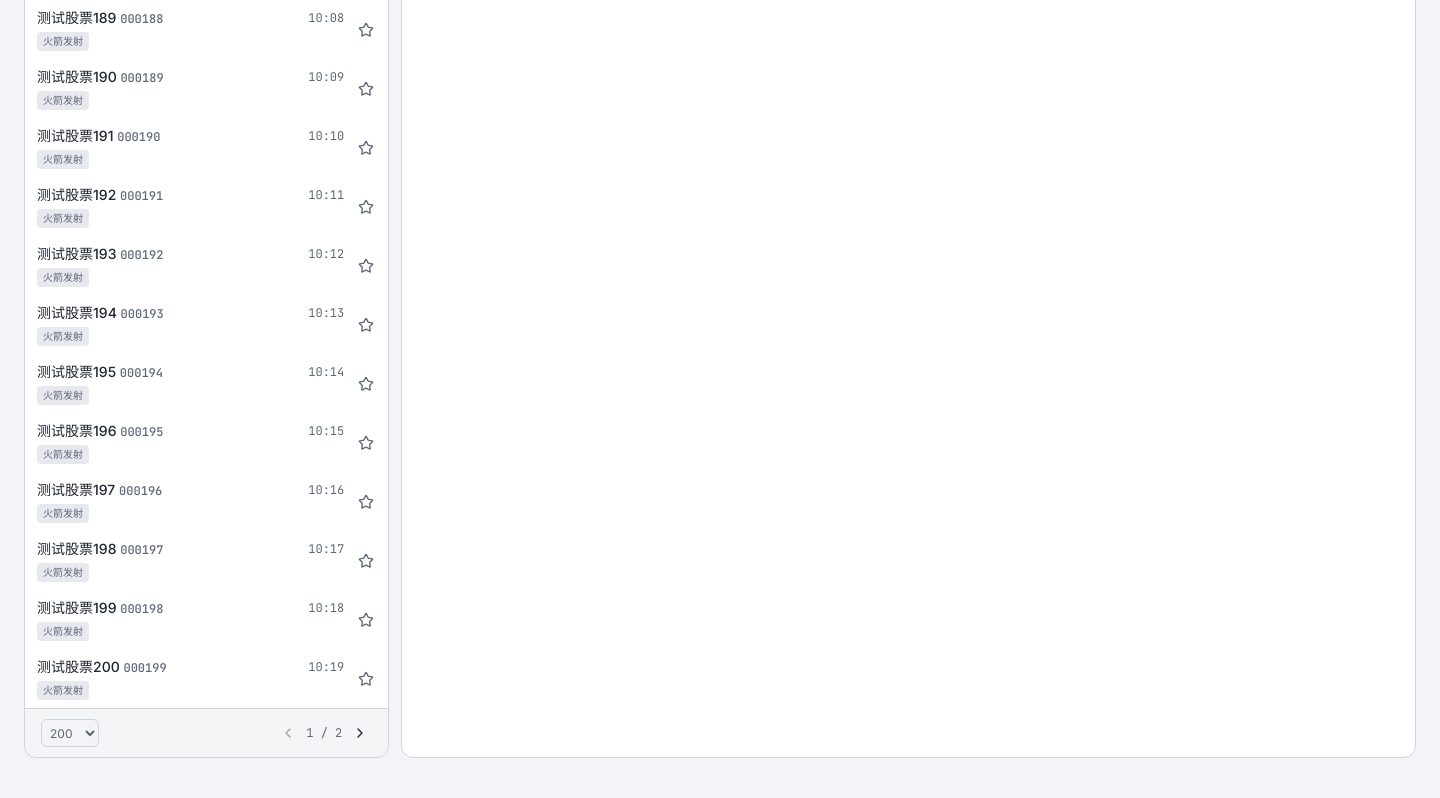
Scenario: MarketPulsePanel › uses the approved page size default and paginates the final event
This screenshot has width=1440, height=798.
(page scrolled)
Expected: the dropdown named "每页数量" shows "200", left=41, top=719, right=99, bottom=747
What coordinates should you click on to do the following:
click the button named "下一页"
I would click on:
 (360, 733)
Its box is left=348, top=721, right=372, bottom=745.
(page scrolled)
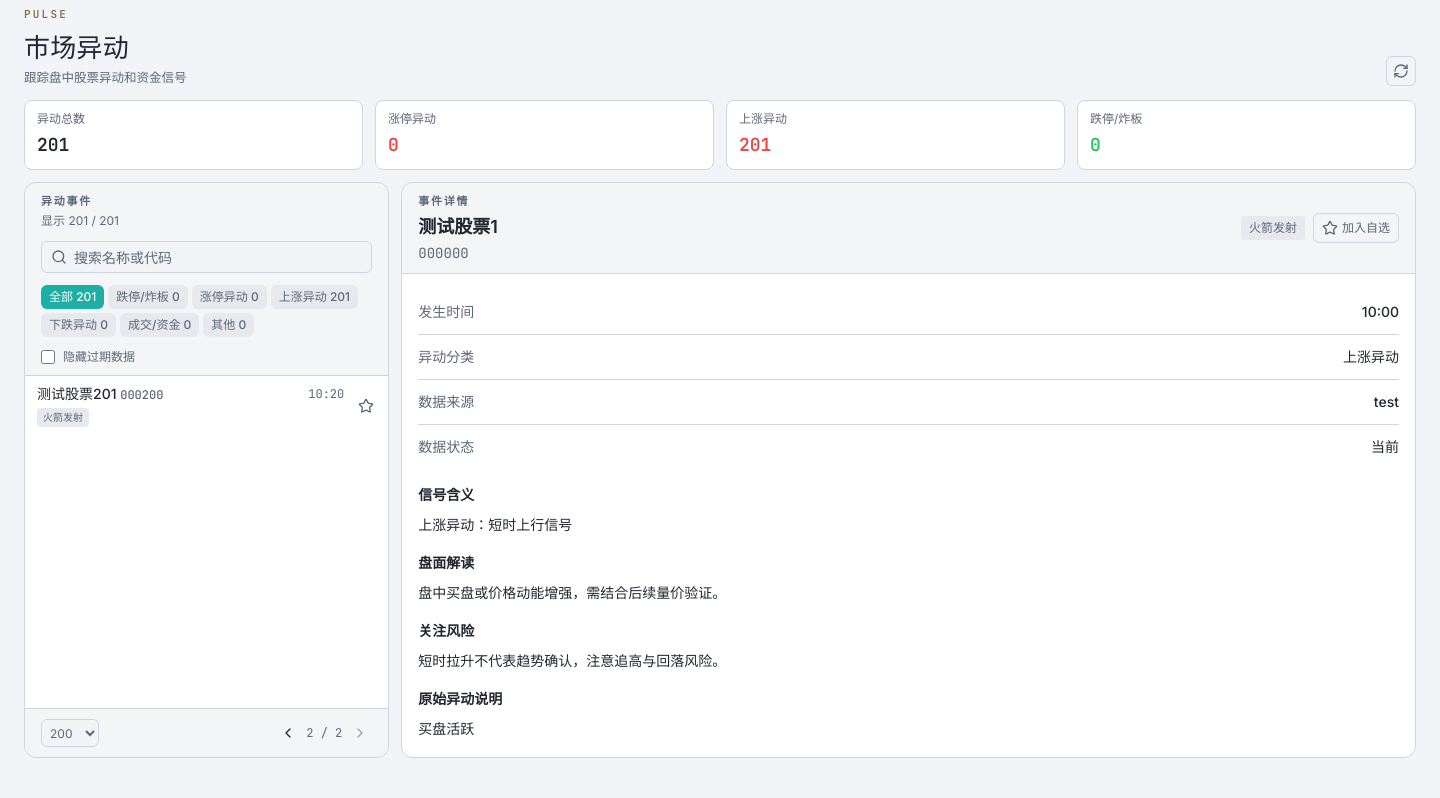
Expected: the text "2 / 2" is shown, left=304, top=725, right=344, bottom=741
Expected: the button "测试股票201 000200 10:20 火箭发射" is shown, left=33, top=376, right=348, bottom=435
Expected: the button named "下一页" is disabled, left=348, top=721, right=372, bottom=745
